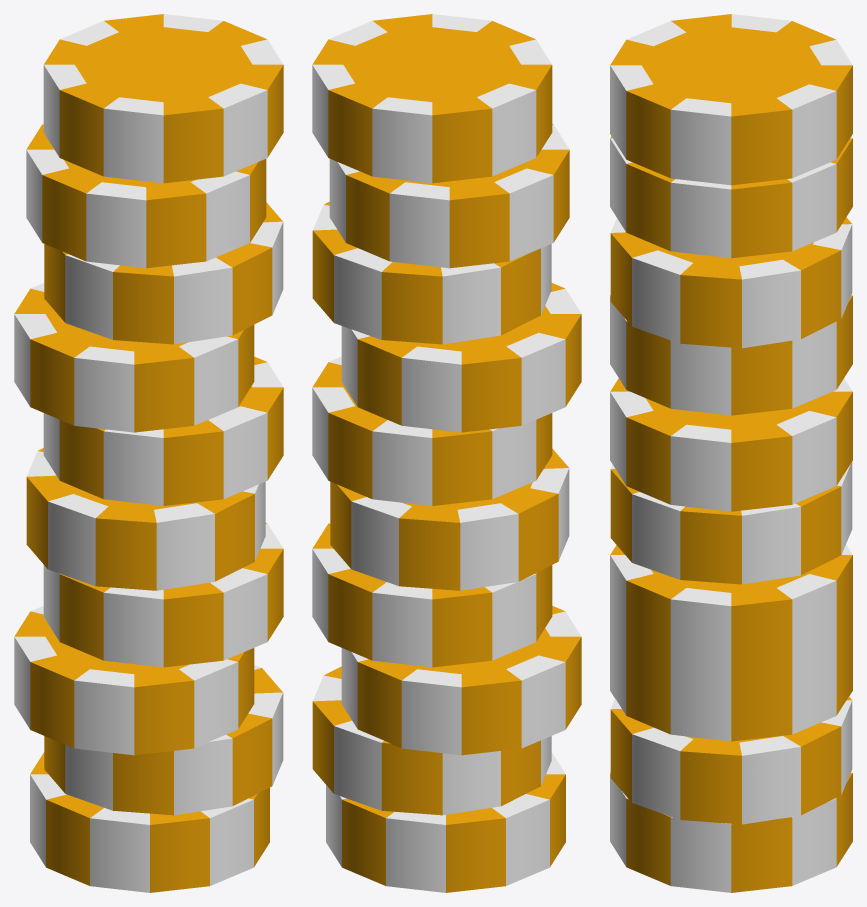
Rendered from Poker Chip Yellow Large Stack.FBX.
The picture shows the model from 3 angles, left to right: view 1: azimuth 30°, elevation 25°; view 2: azimuth 150°, elevation 25°; view 3: azimuth 270°, elevation 25°; orthographic projection.
Visible parts, largest first — view 1: Poker Chip Yellow009, Poker Chip Yellow006, Poker Chip Yellow002, Poker Chip Yellow008, Poker Chip Yellow004, Poker Chip Yellow Large Stack, Poker Chip Yellow003, Poker Chip Yellow005, Poker Chip Yellow007, Poker Chip Yellow001; view 2: Poker Chip Yellow009, Poker Chip Yellow006, Poker Chip Yellow002, Poker Chip Yellow008, Poker Chip Yellow004, Poker Chip Yellow Large Stack, Poker Chip Yellow003, Poker Chip Yellow005, Poker Chip Yellow007, Poker Chip Yellow001; view 3: Poker Chip Yellow009, Poker Chip Yellow005, Poker Chip Yellow003, Poker Chip Yellow007, Poker Chip Yellow001, Poker Chip Yellow004, Poker Chip Yellow008, Poker Chip Yellow Large Stack, Poker Chip Yellow006, Poker Chip Yellow002.
Part boxes in pixels (box(x1,y1,x2,y2)): Poker Chip Yellow009: box(43, 14, 283, 183); Poker Chip Yellow006: box(14, 283, 254, 432); Poker Chip Yellow002: box(14, 606, 254, 755); Poker Chip Yellow008: box(26, 124, 266, 268); Poker Chip Yellow004: box(26, 448, 265, 590); Poker Chip Yellow Large Stack: box(30, 752, 269, 892); Poker Chip Yellow003: box(43, 523, 283, 667); Poker Chip Yellow005: box(43, 356, 283, 505); Poker Chip Yellow007: box(44, 202, 283, 344); Poker Chip Yellow001: box(44, 665, 283, 815); Poker Chip Yellow009: box(312, 14, 552, 183); Poker Chip Yellow006: box(341, 283, 581, 432); Poker Chip Yellow002: box(341, 606, 581, 755); Poker Chip Yellow008: box(329, 124, 569, 268); Poker Chip Yellow004: box(330, 448, 569, 590); Poker Chip Yellow Large Stack: box(326, 752, 565, 892); Poker Chip Yellow003: box(312, 523, 552, 667); Poker Chip Yellow005: box(312, 356, 552, 505); Poker Chip Yellow007: box(312, 201, 551, 344); Poker Chip Yellow001: box(312, 666, 551, 815); Poker Chip Yellow009: box(610, 14, 852, 185); Poker Chip Yellow005: box(610, 378, 852, 511); Poker Chip Yellow003: box(610, 544, 852, 674); Poker Chip Yellow007: box(610, 217, 852, 348); Poker Chip Yellow001: box(610, 697, 852, 824); Poker Chip Yellow004: box(610, 462, 852, 584); Poker Chip Yellow008: box(610, 136, 852, 258); Poker Chip Yellow Large Stack: box(610, 771, 852, 892); Poker Chip Yellow006: box(610, 294, 852, 415); Poker Chip Yellow002: box(610, 624, 852, 741).
Bounding box in the file's own units: 0.0183 × 0.057 × 0.016.
